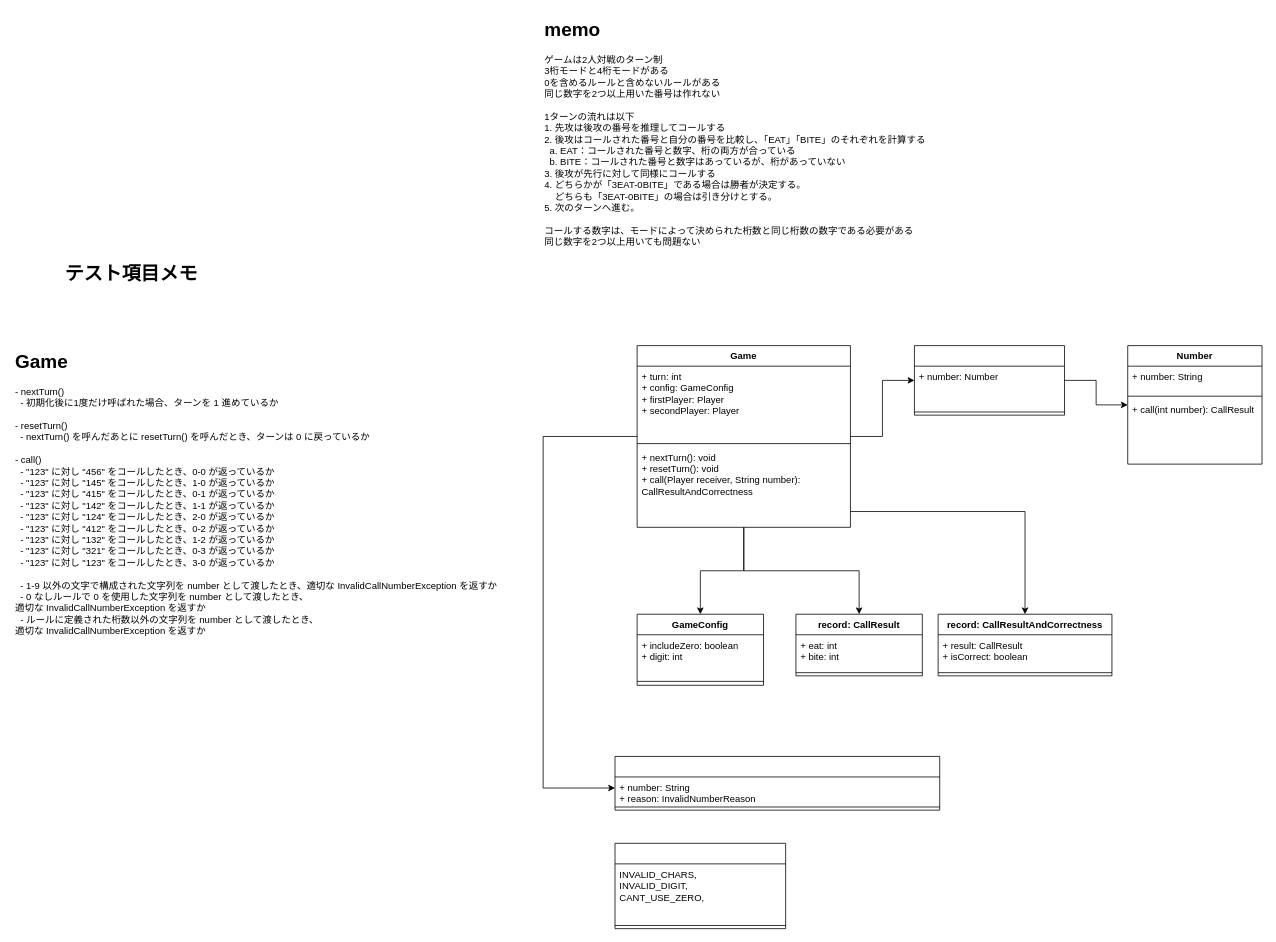
Some shapes in this 1276 by 942 pixel diagram are drawn without their labels. Each missing label, with the box of its shape:
enum: InvalidCallNumberReason: (614, 843, 786, 929)
error: InvalidCallNumberException extends InvalidArgumentException: (614, 756, 940, 810)
Player: (914, 345, 1065, 415)
